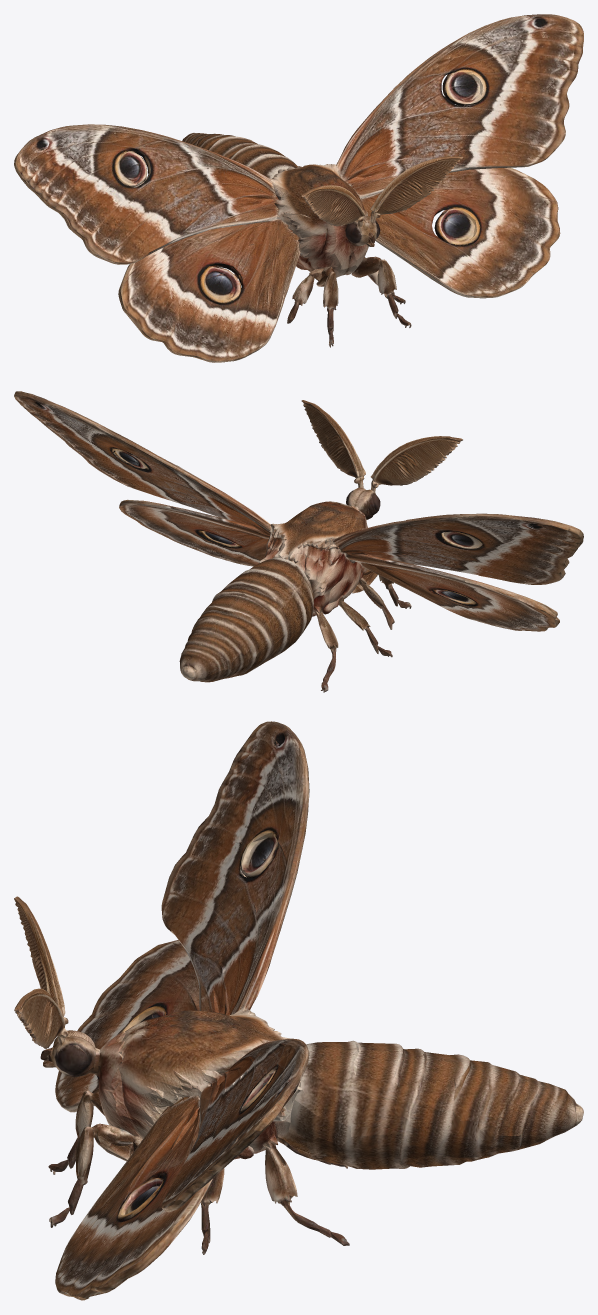
File: mopane-emperor-moth.glb
The picture shows the model from 3 angles, top to bottom: view 1: azimuth 30°, elevation 25°; view 2: azimuth 150°, elevation 25°; view 3: azimuth 270°, elevation 25°; orthographic projection. The views are drawn at different scales.
Size of the model in its own units: 1.9 by 0.6629 by 1.14.
Materials: 1 (1 with a texture image).
